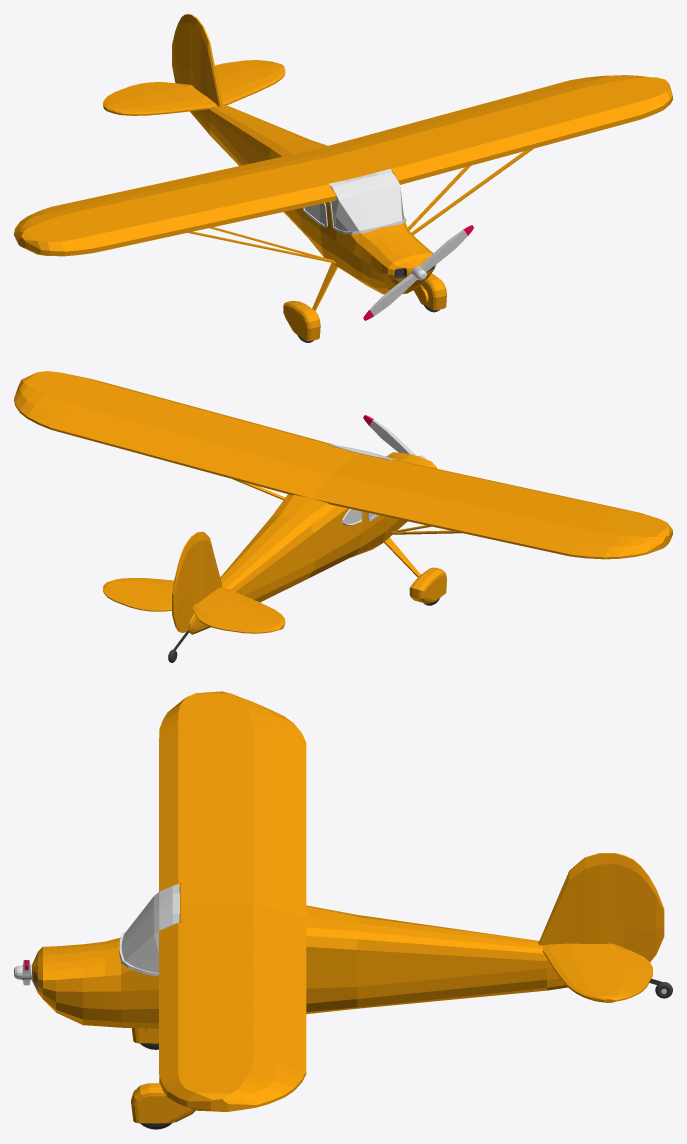
The model's file is cessna_140.fbx.
The picture shows the model from 3 angles, top to bottom: view 1: azimuth 30°, elevation 25°; view 2: azimuth 150°, elevation 25°; view 3: azimuth 270°, elevation 25°; orthographic projection. The views are drawn at different scales.
Visible parts, largest first — view 1: Fuselage, Elevator, Propeller, Rudder, Aileron L, Aileron R; view 2: Fuselage, Elevator, Aileron L, Aileron R, Rudder, Propeller; view 3: Fuselage, Rudder, Aileron R, Aileron L, Elevator.
Boxes of the visible parts, x1,y1,x2,y2 form: Fuselage: (14, 14, 672, 342); Elevator: (103, 60, 280, 109); Propeller: (363, 225, 473, 320); Rudder: (172, 14, 191, 84); Aileron L: (477, 75, 609, 108); Aileron R: (28, 186, 156, 216); Fuselage: (14, 371, 672, 662); Elevator: (103, 584, 281, 633); Aileron L: (27, 406, 156, 455); Aileron R: (476, 520, 610, 559); Rudder: (172, 537, 193, 632); Propeller: (363, 415, 426, 459); Fuselage: (32, 691, 672, 1129); Rudder: (615, 853, 664, 961); Aileron R: (275, 716, 306, 805); Aileron L: (275, 1008, 306, 1090); Elevator: (611, 943, 652, 1002).
Size of the model in its own units: 997 by 269 by 681.
